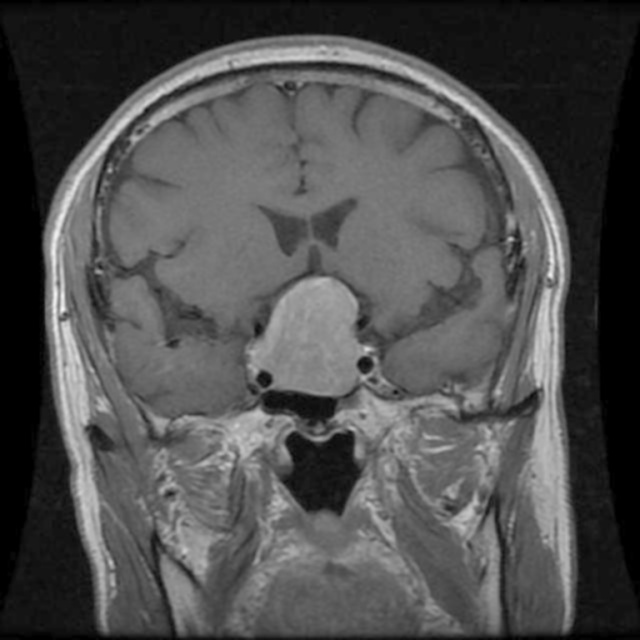no tumor: (260, 276, 359, 395)
